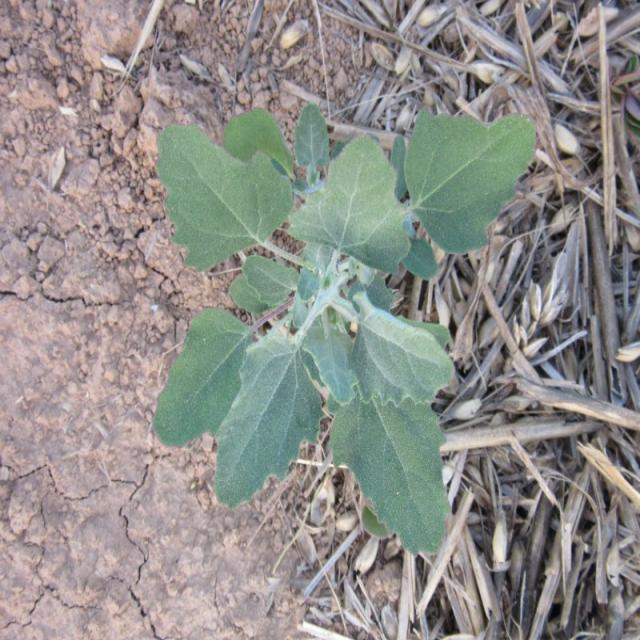ca: (153, 107, 538, 556)
